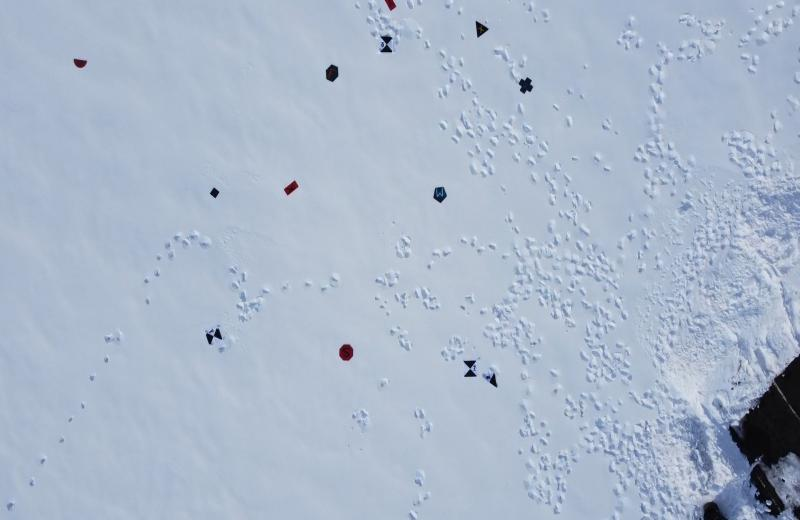Cross: (518, 78, 534, 95)
Hexagon: (325, 63, 339, 83)
Octagon: (338, 342, 354, 362)
Pentagon: (433, 186, 448, 204)
Rectangle: (283, 180, 299, 198), (384, 0, 397, 11)
Semi Circle: (73, 58, 88, 69)
Square: (210, 186, 220, 200)
Triangle: (475, 20, 489, 39)
